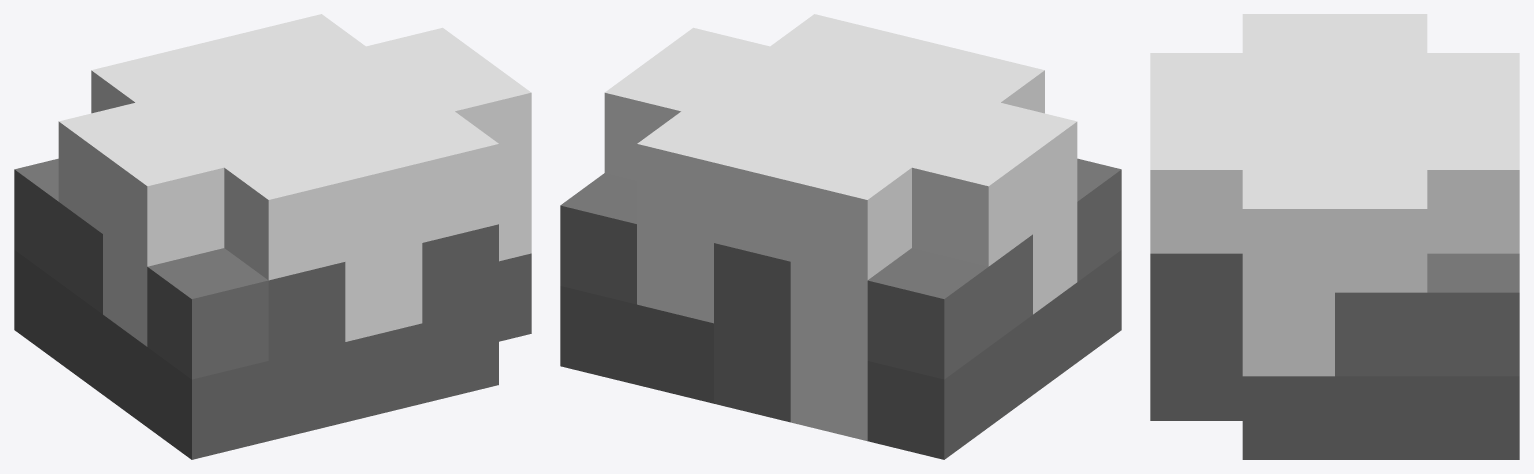
The model's file is Stones-1.obj.
3 renders of one model, left to right at view 1: azimuth 30°, elevation 25°; view 2: azimuth 150°, elevation 25°; view 3: azimuth 270°, elevation 25°, orthographic. The views are drawn at different scales.
Size of the model in its own units: 0.5 by 0.3 by 0.4.
Materials: 1 (1 with a texture image).
